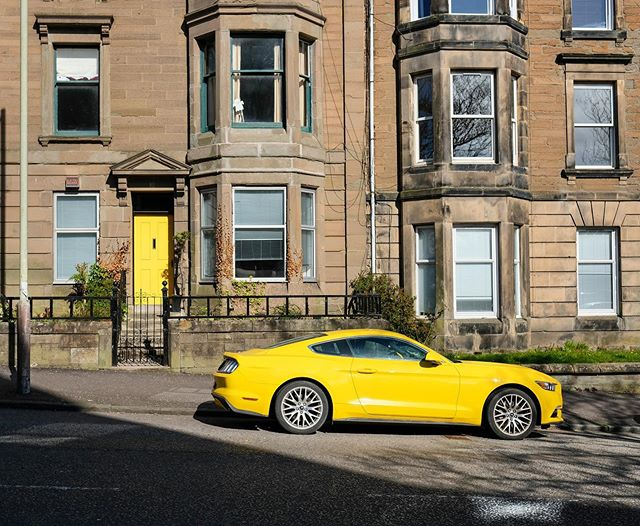building: (1, 1, 359, 320), (364, 1, 640, 349)
car: (205, 321, 569, 446)
street: (3, 413, 640, 526)
